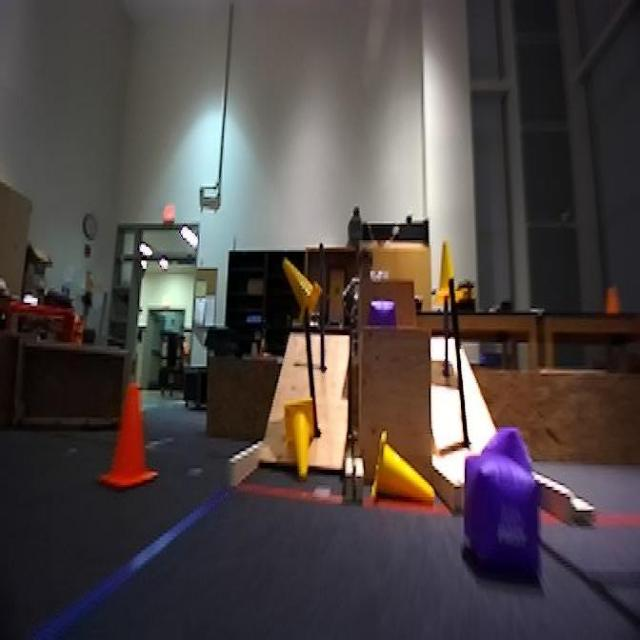frc_cone: (273, 248, 328, 336), (372, 438, 430, 506), (283, 395, 322, 488), (425, 237, 464, 310)
frc_cube: (464, 451, 543, 563), (484, 429, 538, 519), (368, 296, 400, 334)
